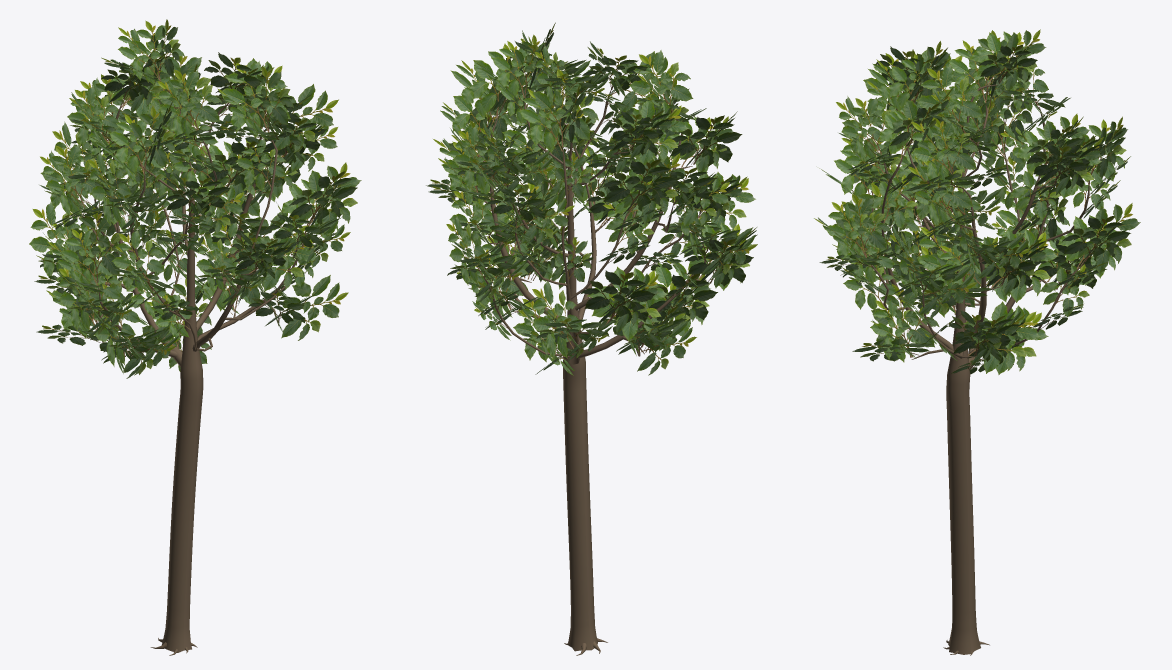
File: corealm_teak_1.glb
3 renders of one model, left to right at view 1: azimuth 30°, elevation 25°; view 2: azimuth 150°, elevation 25°; view 3: azimuth 270°, elevation 25°, orthographic.
Parts seen in each view (by area): view 1: corealm_teak_1; view 2: corealm_teak_1; view 3: corealm_teak_1.
Part boxes in pixels (left/top/right/bottom): corealm_teak_1: left=29, top=19, right=361, bottom=655; corealm_teak_1: left=426, top=22, right=757, bottom=655; corealm_teak_1: left=814, top=29, right=1140, bottom=655.
Bounding box in the file's own units: 7.42 × 13.06 × 6.74.
2 materials, 1 textured.
